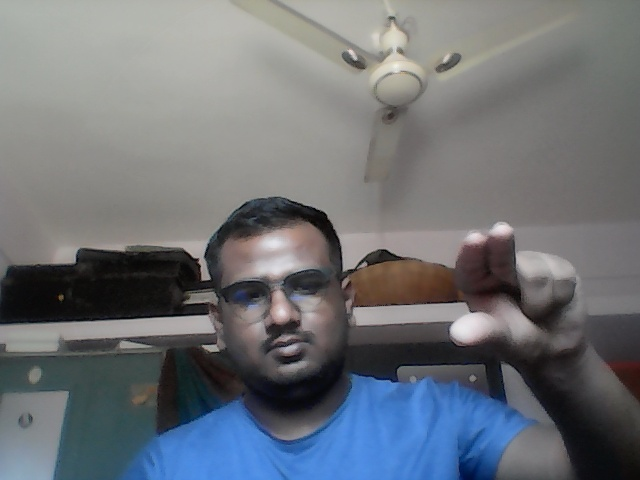No: (445, 217, 592, 363)
